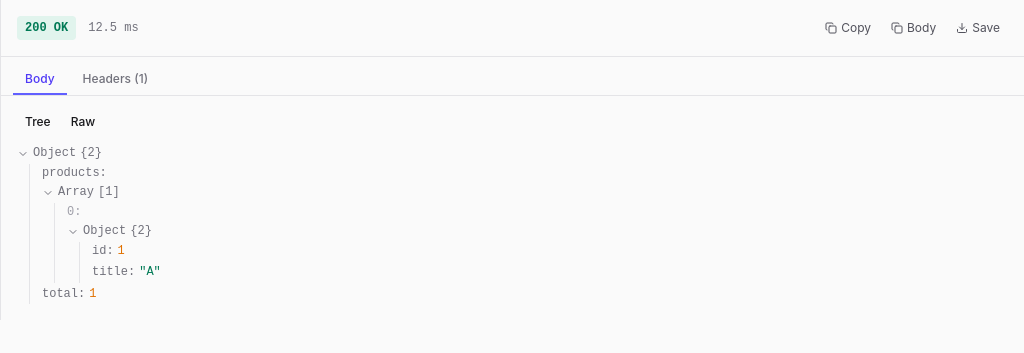
Test: ResponseViewer › switches between tree and raw views
expect the 1st text "Object" is shown: met, box left=33, top=144, right=76, bottom=164
Click the radio button labelled "Raw" at (83, 122), box left=63, top=112, right=103, bottom=132
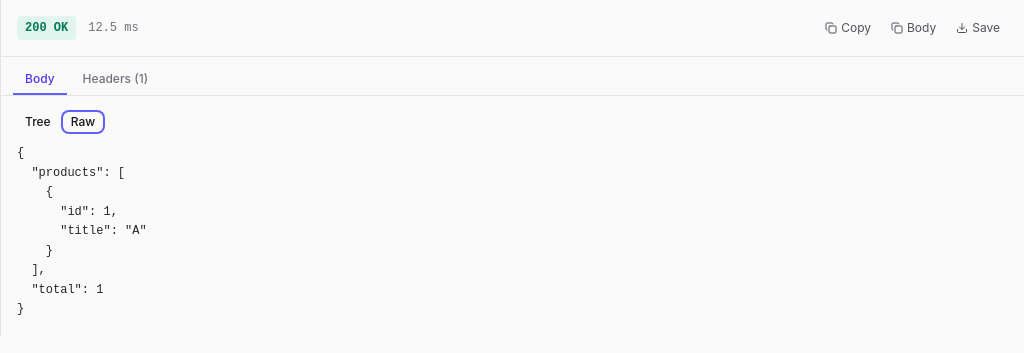
expect no headings "Object" are shown: met
expect the text "{ \"products\": [ { \"id\": 1, \"title\": \"A\" } ], \"total\": 1 }" is shown: met, box left=17, top=146, right=147, bottom=316
